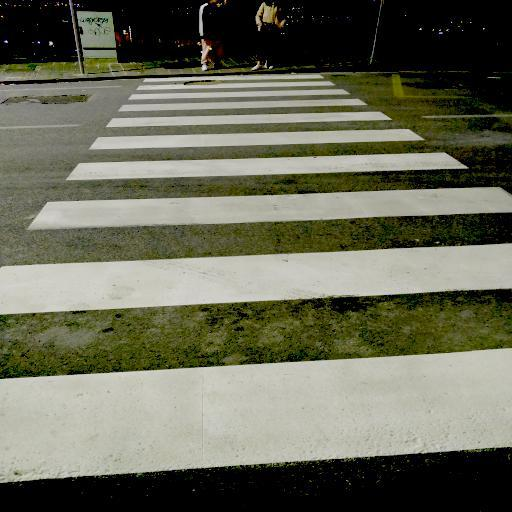crosswalk: (0, 240, 512, 504), (56, 124, 474, 184), (132, 74, 340, 92)
